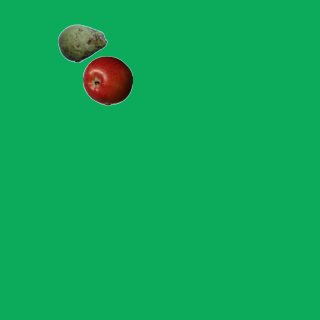Apple Braeburn: (82, 55, 132, 105)
Pear Stone: (57, 18, 107, 68)
